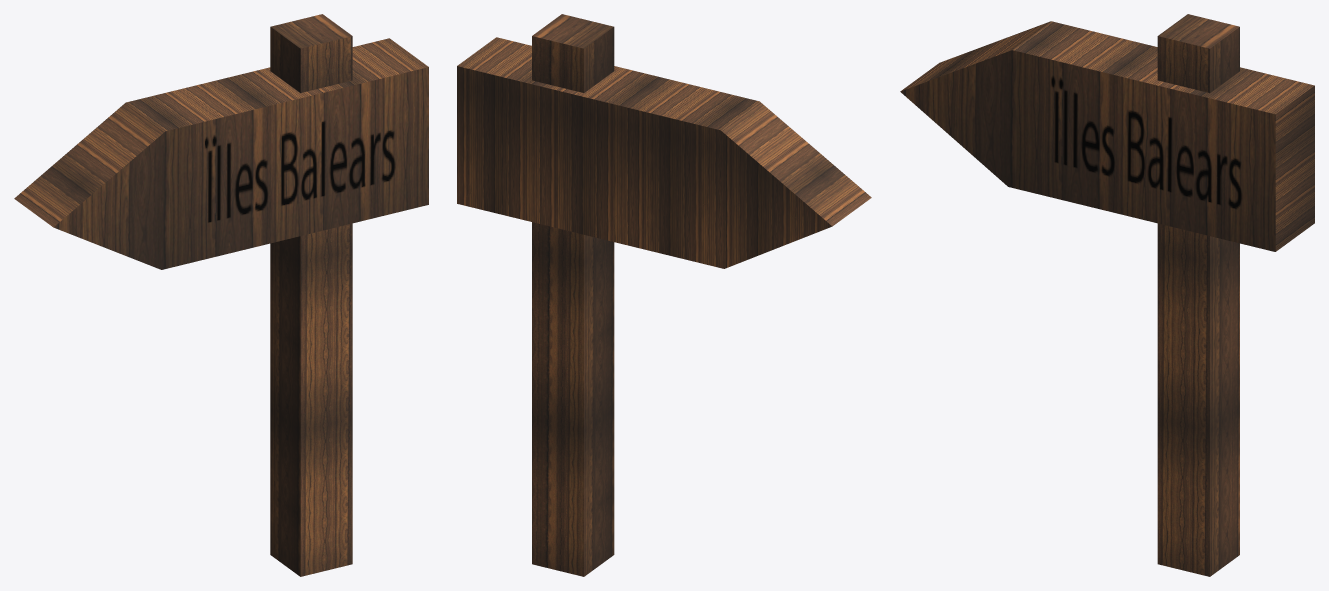
File: cartel.FBX
3 views of the same model, side by side, from view 1: azimuth 30°, elevation 25°; view 2: azimuth 150°, elevation 25°; view 3: azimuth 330°, elevation 25° (orthographic).
Parts seen in each view (by area): view 1: Box001, Box002; view 2: Box001, Box002; view 3: Box001, Box002.
Boxes of the visible parts, x1,y1,x2,y2 form: Box001: (14,38,428,269); Box002: (270,14,352,576); Box001: (457,37,871,268); Box002: (532,14,614,576); Box001: (900,21,1314,251); Box002: (1157,14,1239,576).
Size of the model in its own units: 29.27 by 39.35 by 5.32.
Materials: 2 (2 with a texture image).
